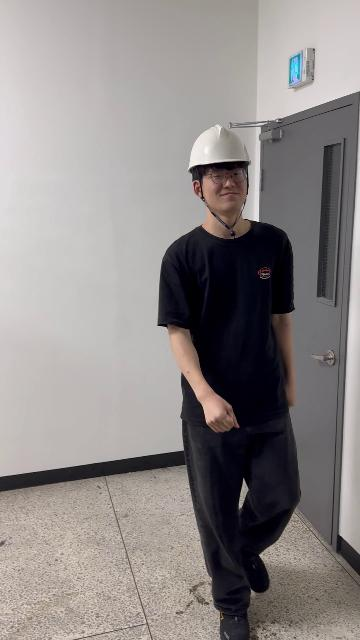helmet_worn: (187, 124, 253, 173)
shoe_worn: (242, 554, 269, 593), (219, 611, 249, 640)
vest_not_worn: (172, 233, 295, 431)
